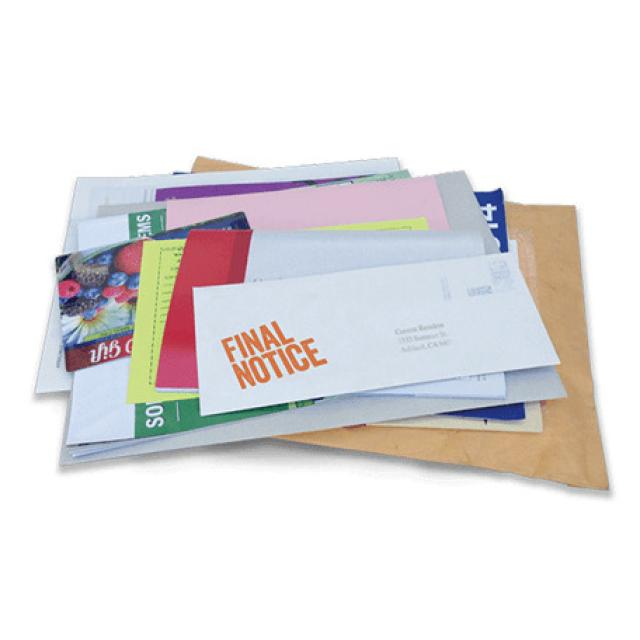paper: (36, 148, 609, 501)
